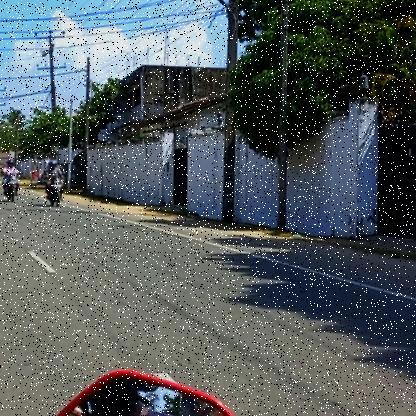motorcycle: (42, 174, 68, 210), (0, 170, 25, 204)
